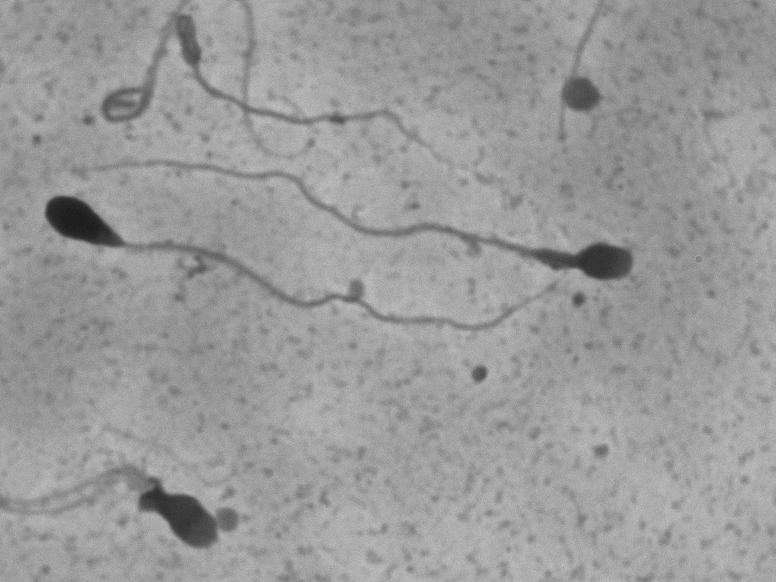Abnormal: (17, 177, 284, 334), (381, 159, 661, 292), (32, 427, 255, 569)
